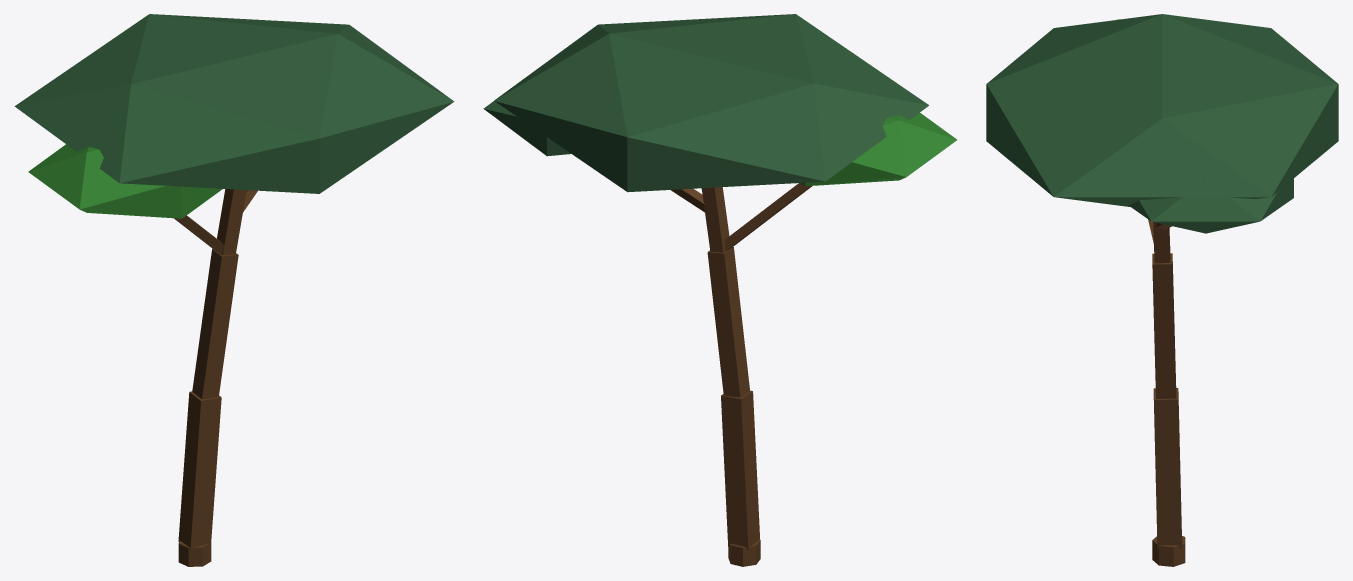
The model's file is prop_pine.glb.
The picture shows the model from 3 angles, left to right: view 1: azimuth 30°, elevation 25°; view 2: azimuth 150°, elevation 25°; view 3: azimuth 270°, elevation 25°; orthographic projection. The views are drawn at different scales.
Visible parts, largest first — view 1: body; view 2: body; view 3: body.
Boxes of the visible parts, x1=… form: body: x1=14, y1=14, x2=454, y2=566; body: x1=483, y1=14, x2=956, y2=566; body: x1=986, y1=14, x2=1338, y2=566.
Bounding box in the file's own units: 6.36 × 7.81 × 4.87.
